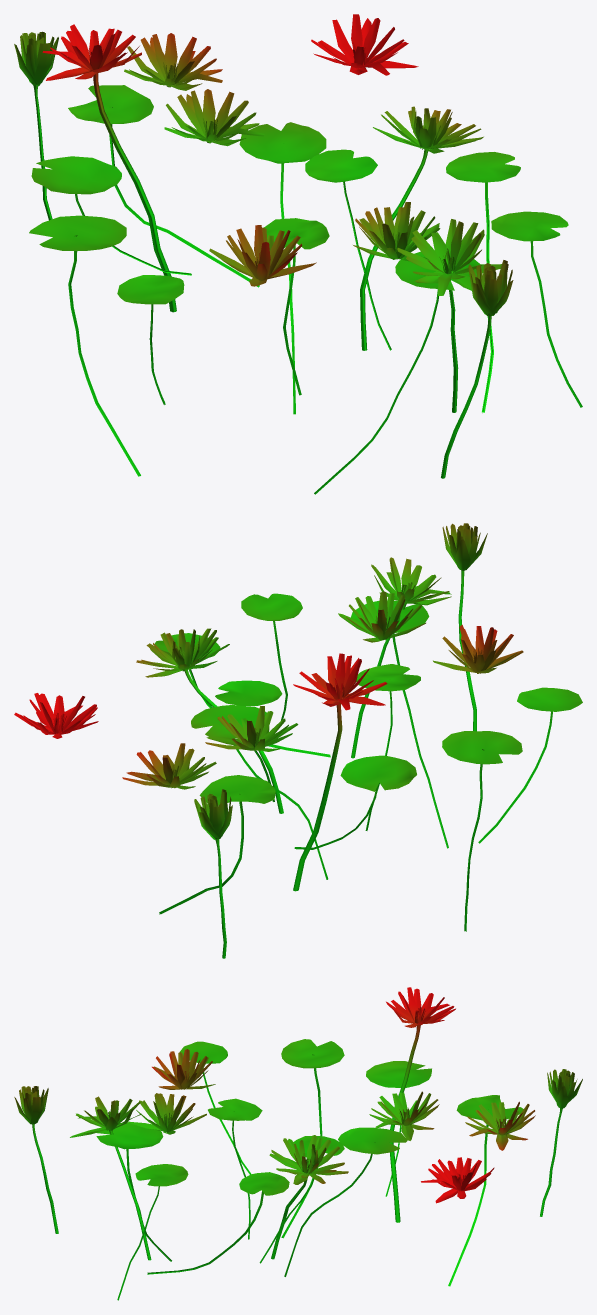
File: uc2jdibia_Var6_LOD0.fbx
The picture shows the model from 3 angles, top to bottom: view 1: azimuth 30°, elevation 25°; view 2: azimuth 150°, elevation 25°; view 3: azimuth 270°, elevation 25°; orthographic projection. The views are drawn at different scales.
Parts seen in each view (by area): view 1: _0b4e_Var6_LOD0; view 2: _0b4e_Var6_LOD0; view 3: _0b4e_Var6_LOD0.
Boxes of the visible parts, <box> form: _0b4e_Var6_LOD0: <box>14,14,582,494</box>; _0b4e_Var6_LOD0: <box>14,523,582,958</box>; _0b4e_Var6_LOD0: <box>14,987,582,1300</box>.
Size of the model in its own units: 140 by 103 by 203.
